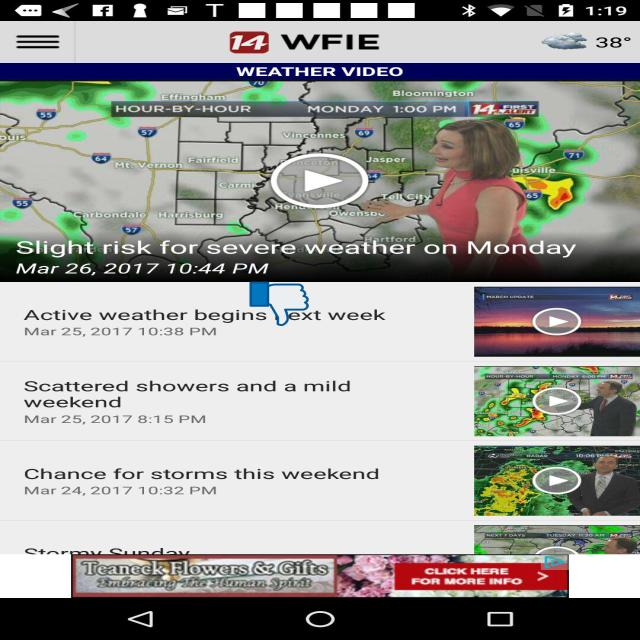obstruction: (249, 281, 309, 327)
